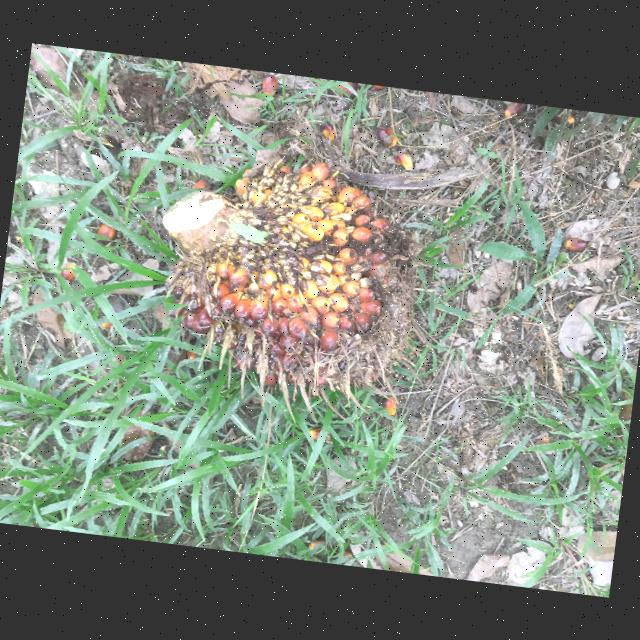Ripe: (160, 159, 416, 390)
